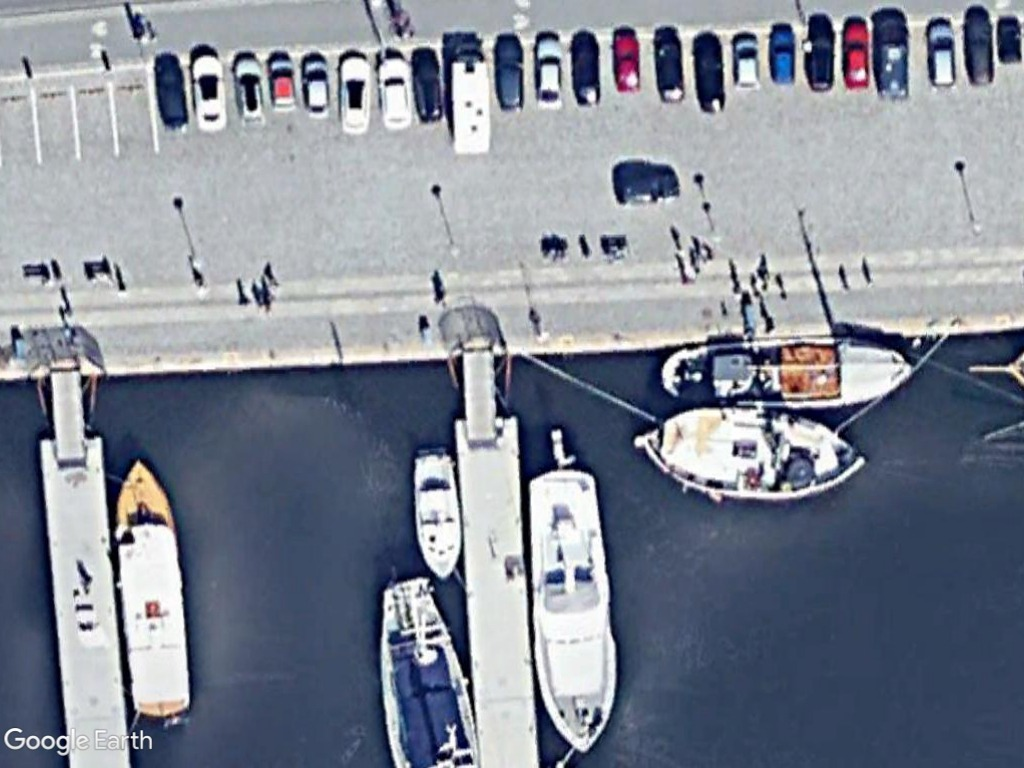boat: (523, 459, 620, 756), (628, 398, 871, 511), (104, 455, 196, 723), (653, 333, 920, 412), (405, 444, 466, 580)
car: (331, 47, 377, 140), (187, 47, 230, 140), (372, 50, 418, 134), (149, 53, 193, 136), (228, 48, 272, 130), (529, 32, 570, 113), (959, 8, 999, 91), (922, 15, 962, 96), (490, 34, 529, 116), (606, 25, 649, 98), (296, 53, 337, 126), (837, 12, 873, 93), (262, 50, 301, 118), (767, 22, 803, 93), (728, 28, 765, 96)
van: (870, 8, 916, 107)
